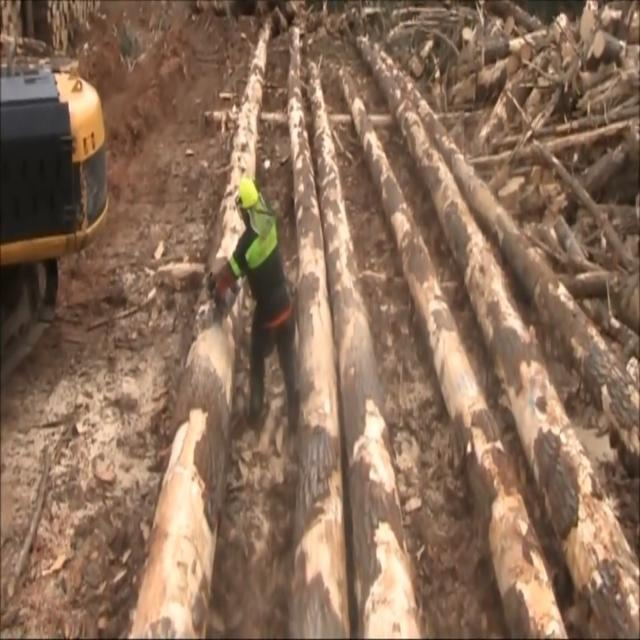Chainsaw: (187, 231, 250, 356)
